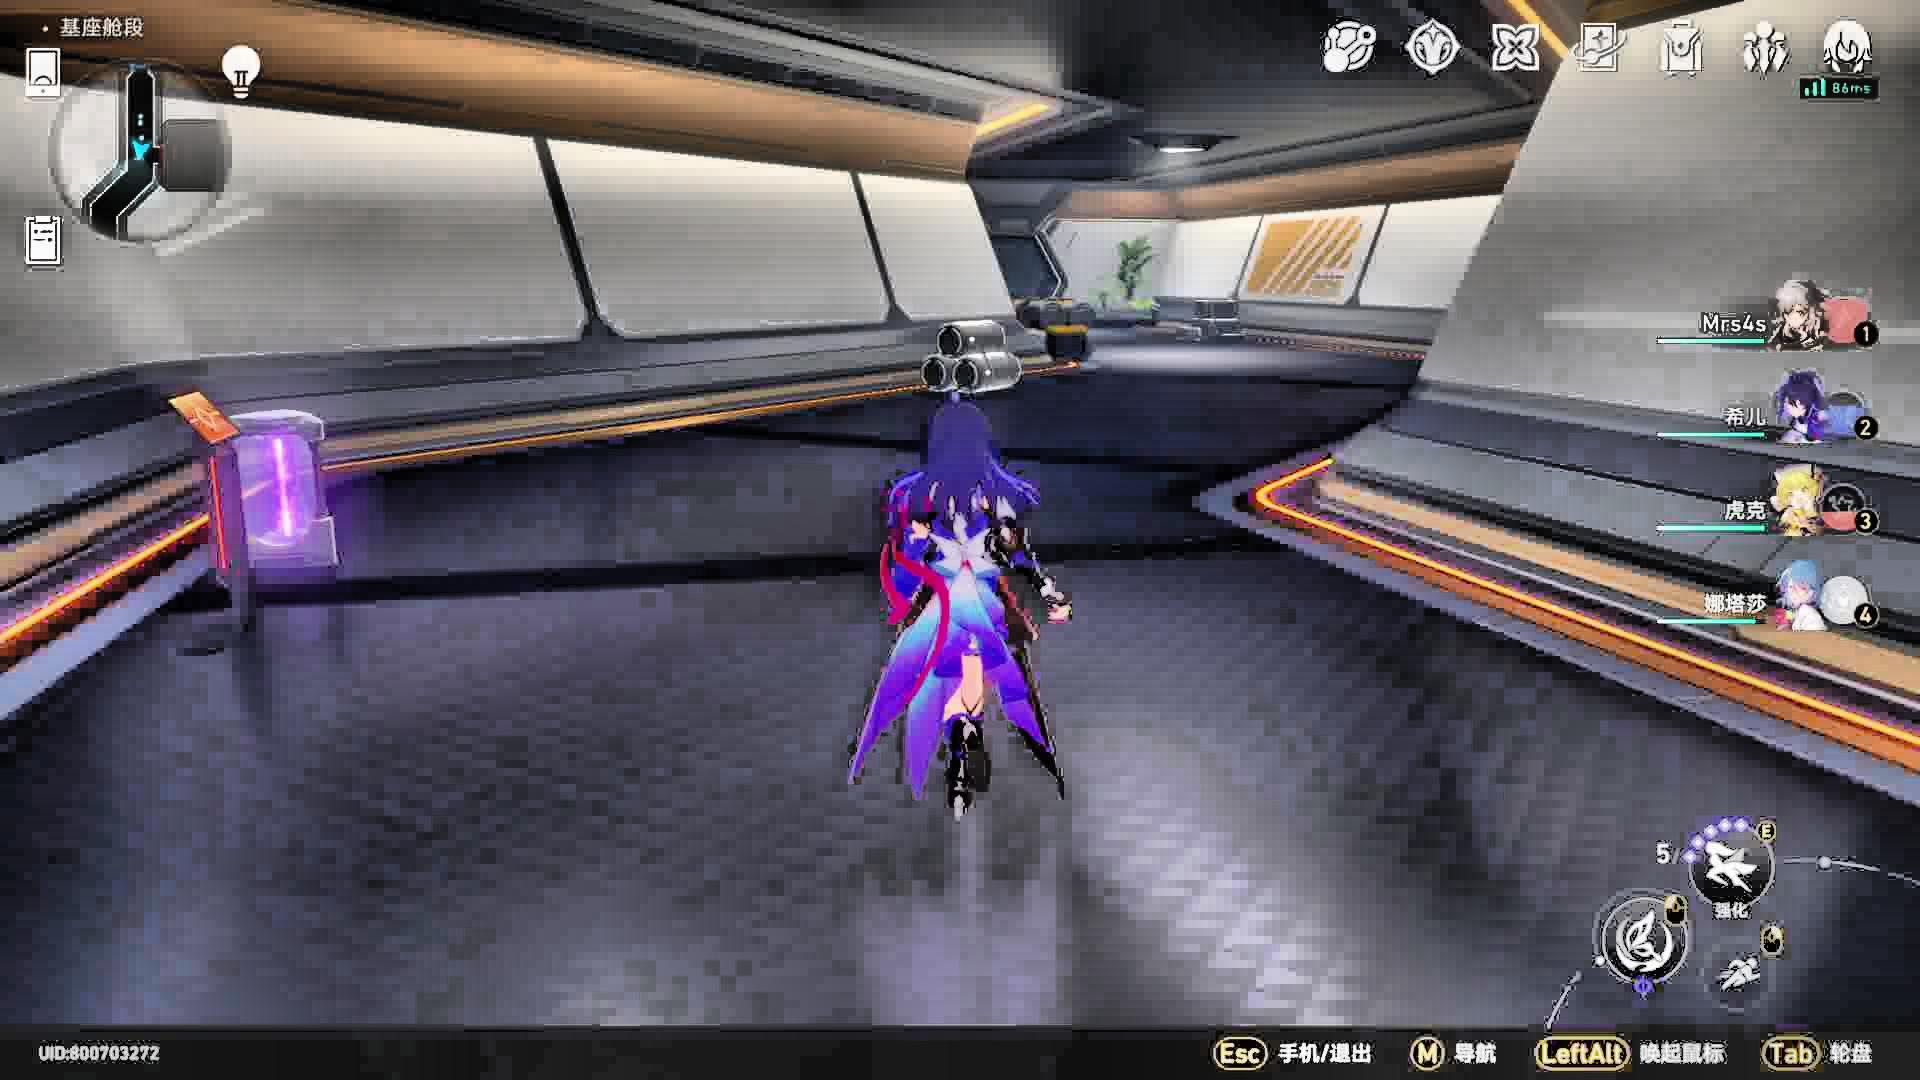Box: (847, 406, 1077, 829), (915, 320, 1022, 392), (1174, 289, 1245, 344)
